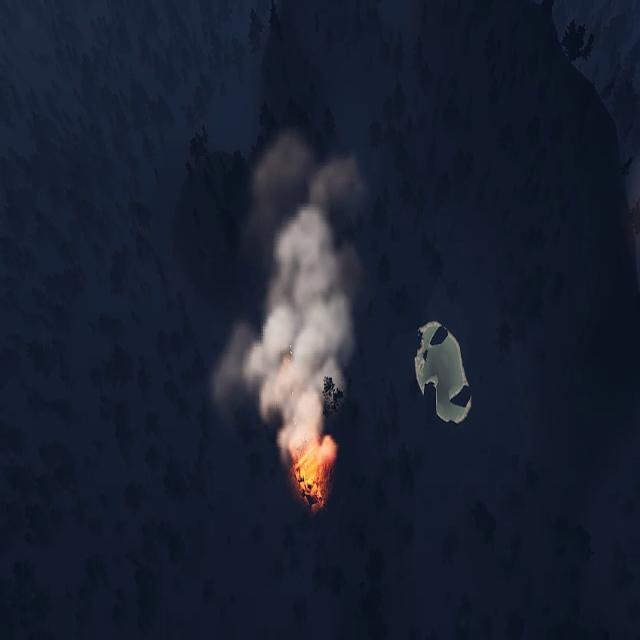fire: (288, 433, 336, 506)
smoke: (209, 130, 366, 454)
